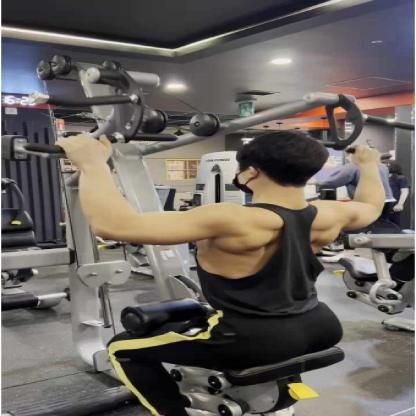Lat Pull Down: (2, 51, 416, 416)
